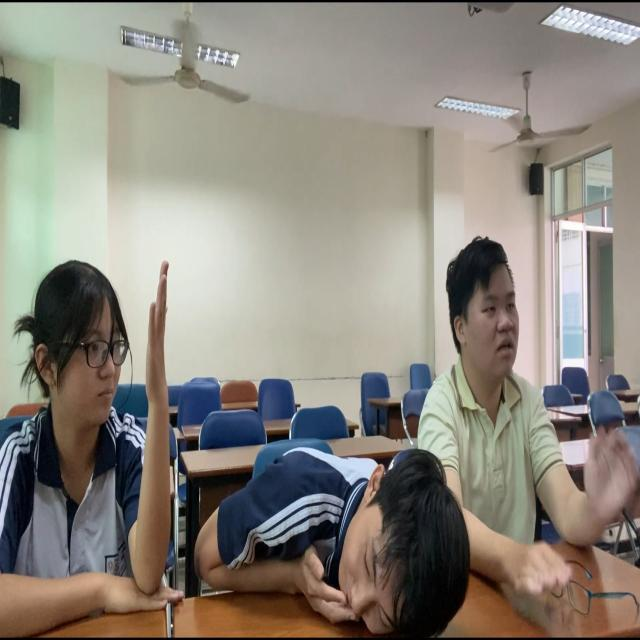raise_hand: (1, 249, 176, 640)
sleep: (190, 435, 476, 640)
